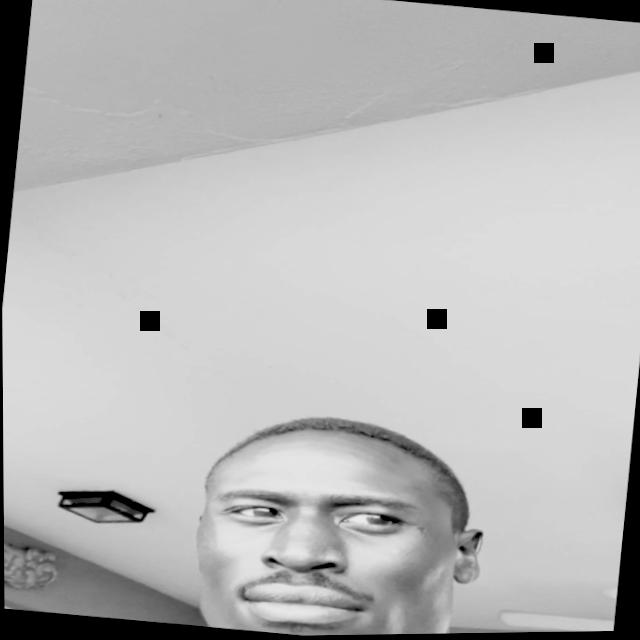NO-Mask: (174, 405, 480, 638)
